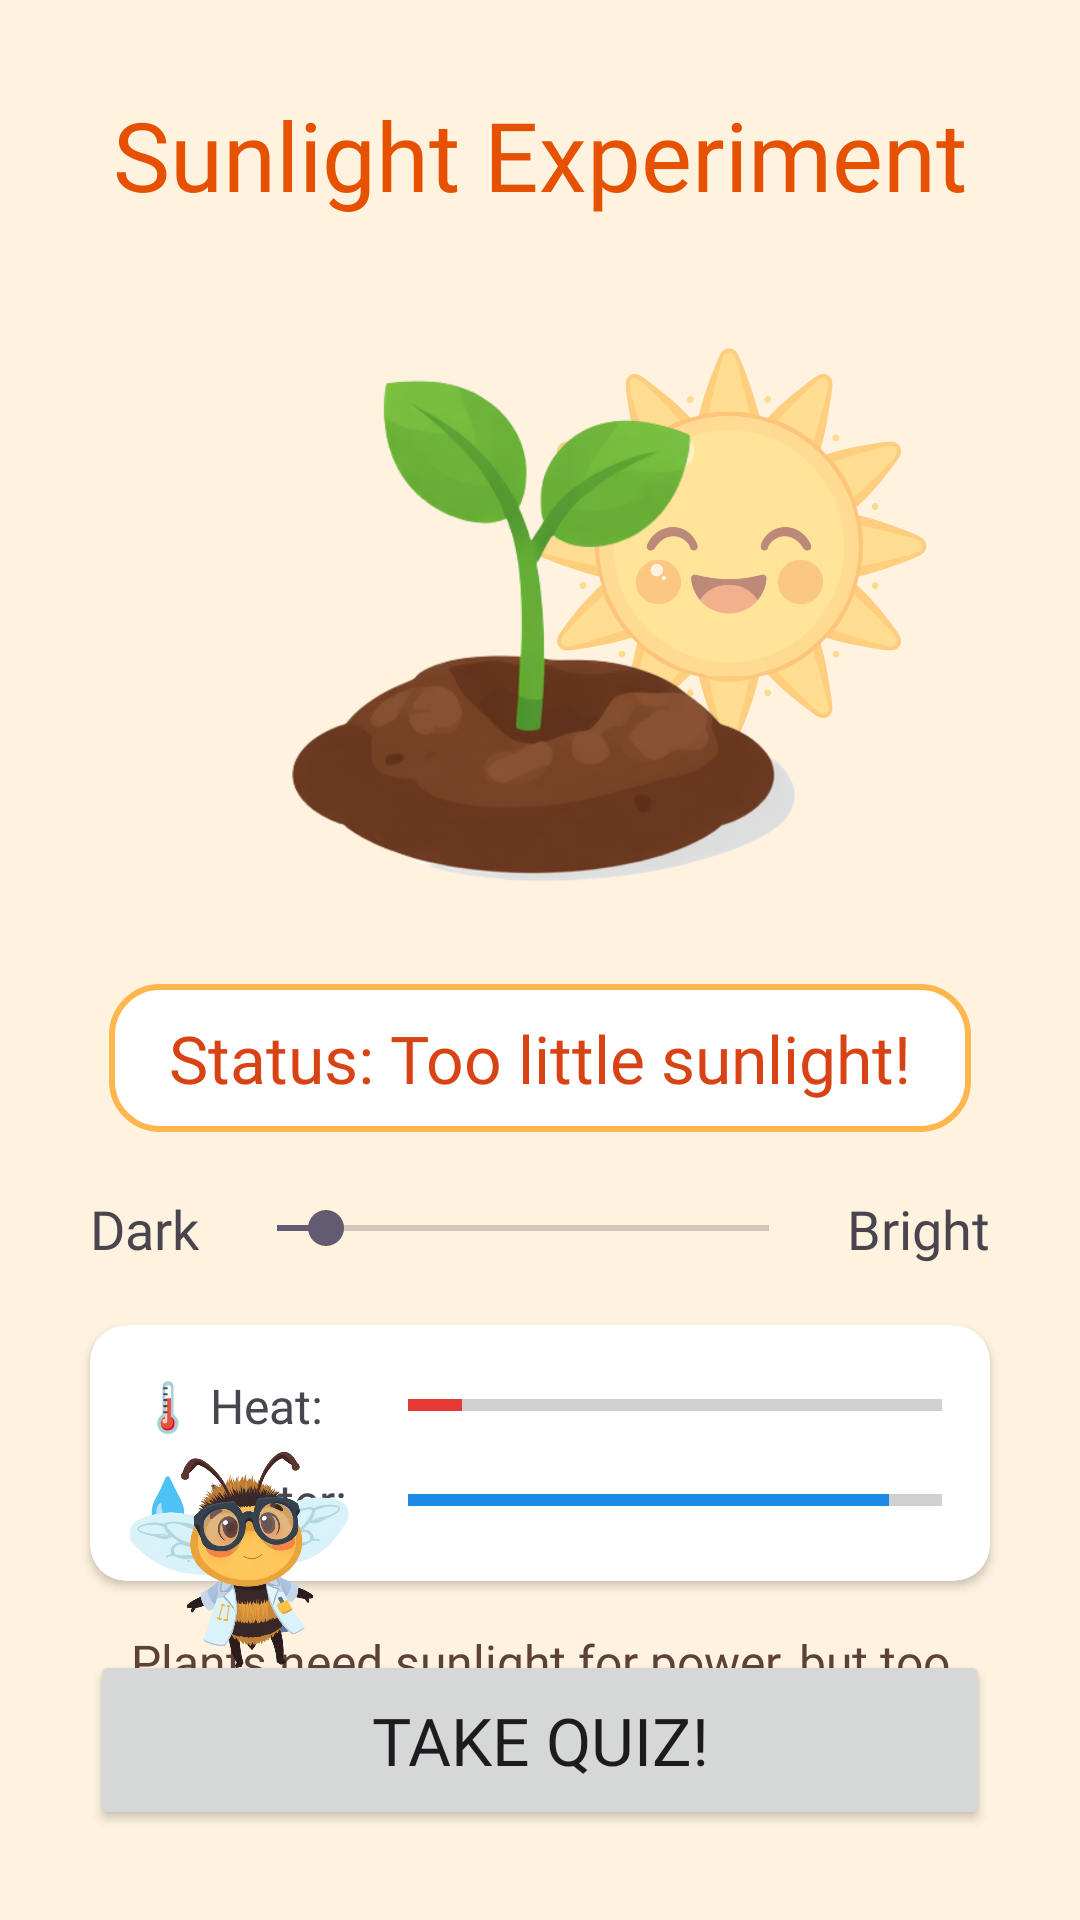

Icon click points for this 1080 x 1920 phone screenshot, format (x=x, y=y):
mascot idle: (x=240, y=1559)
